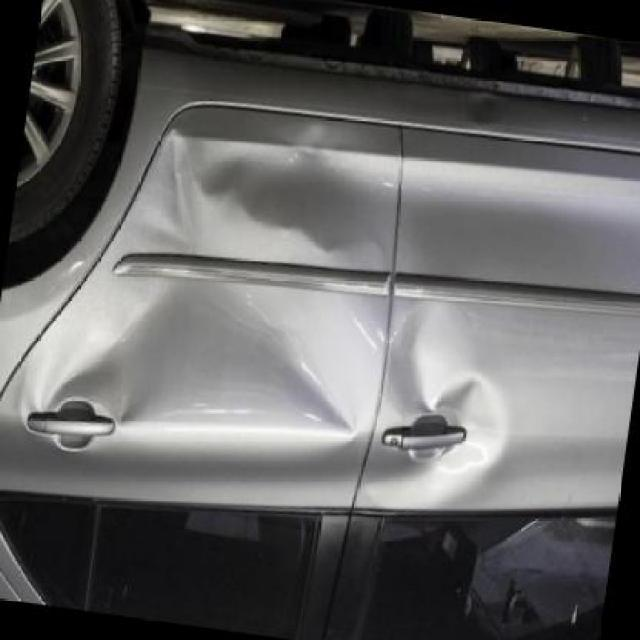dent: (45, 288, 346, 449), (172, 138, 398, 274), (389, 318, 511, 472)
